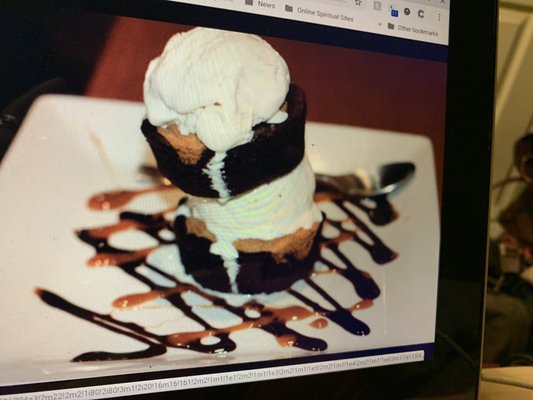sushi: (84, 26, 329, 296)
